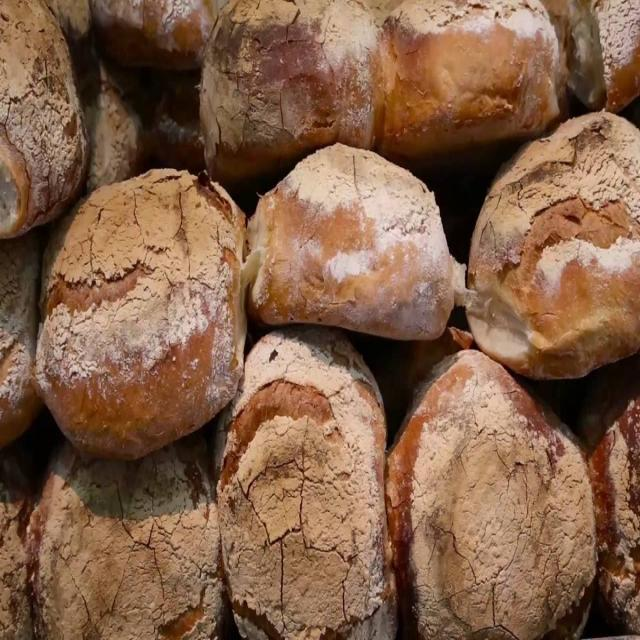Maltese-Bread: (385, 349, 597, 639), (36, 170, 246, 458), (216, 327, 396, 639), (467, 111, 640, 380), (23, 428, 226, 639), (248, 143, 453, 340), (200, 0, 384, 181), (374, 0, 568, 170)
